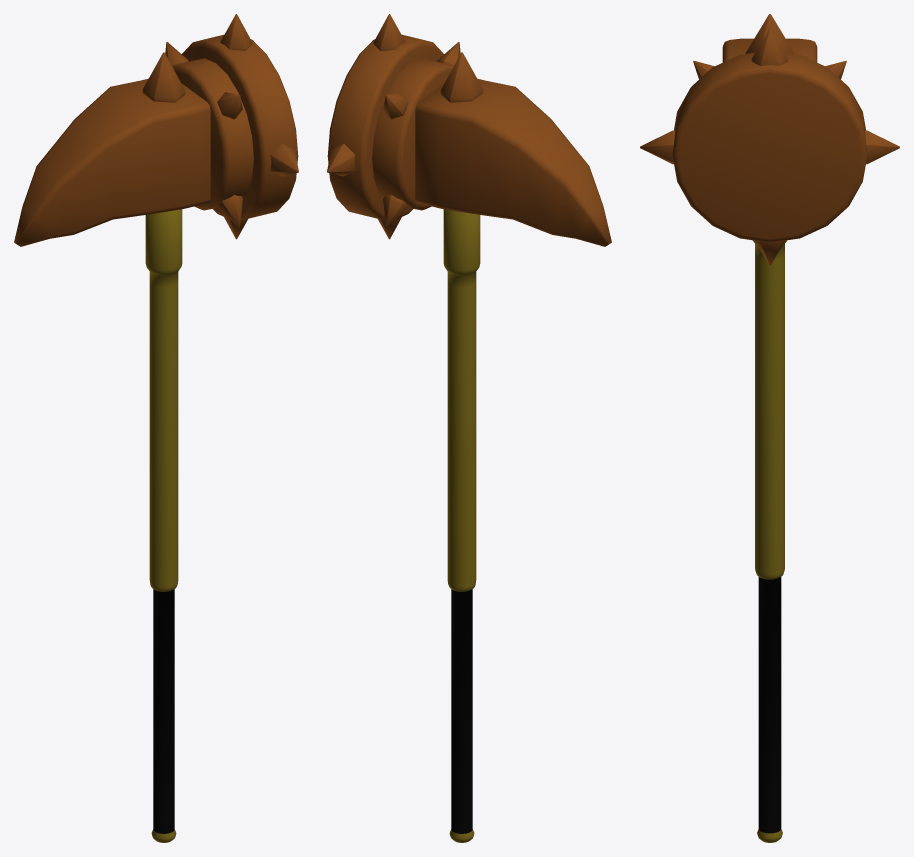
File: TwoHand_Hammer_Rust.fbx
3 views of the same model, side by side, from view 1: azimuth 30°, elevation 25°; view 2: azimuth 150°, elevation 25°; view 3: azimuth 270°, elevation 25° (orthographic). The views are drawn at different scales.
Visible parts, largest first — view 1: TwoHand_Hammer_Rust; view 2: TwoHand_Hammer_Rust; view 3: TwoHand_Hammer_Rust.
Part boxes in pixels (x1=…): TwoHand_Hammer_Rust: x1=14, y1=14, x2=298, y2=842; TwoHand_Hammer_Rust: x1=327, y1=14, x2=611, y2=842; TwoHand_Hammer_Rust: x1=640, y1=14, x2=899, y2=842.
Size of the model in its own units: 385 by 1247 by 346.
